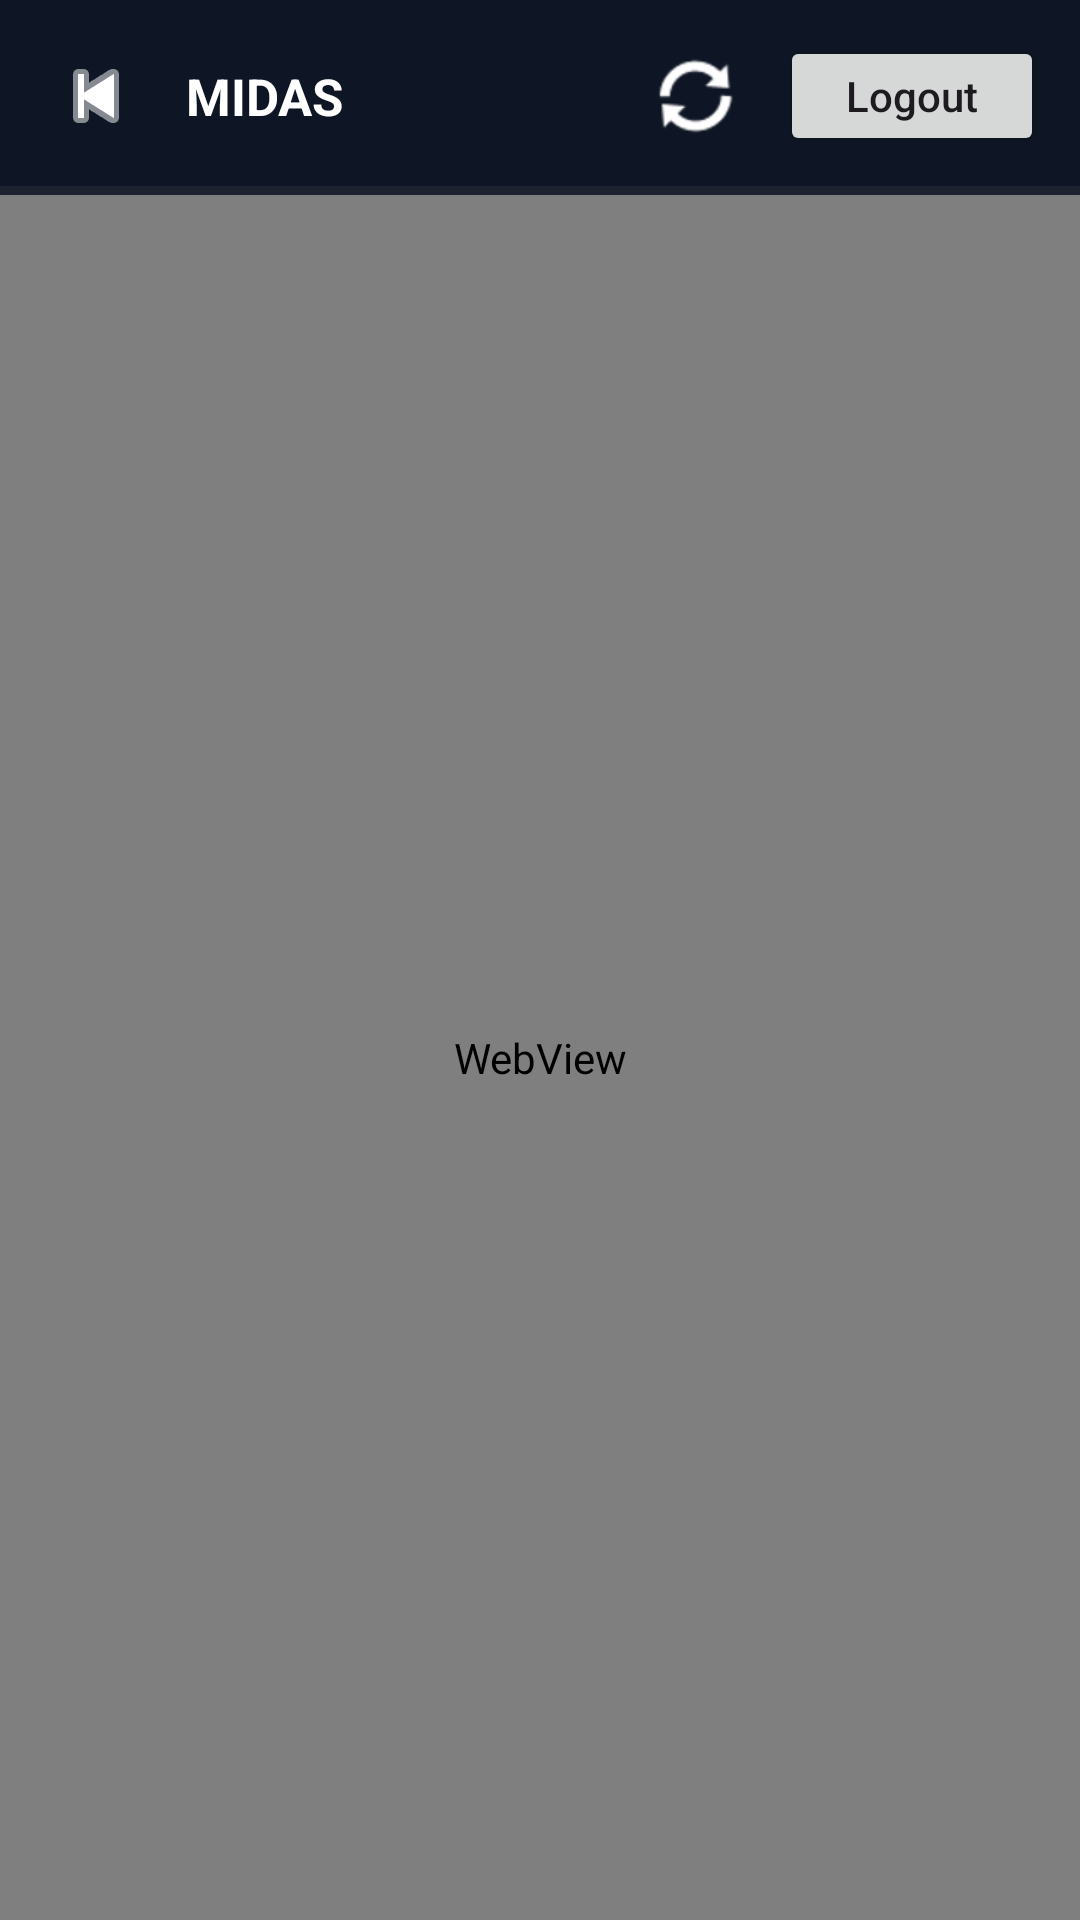

Where icons sit on this 1080w x 1920h app screen, as [x1, y1, x2, y2]:
Neu laden: [659, 60, 733, 132]
Zurueck: [73, 69, 119, 123]
